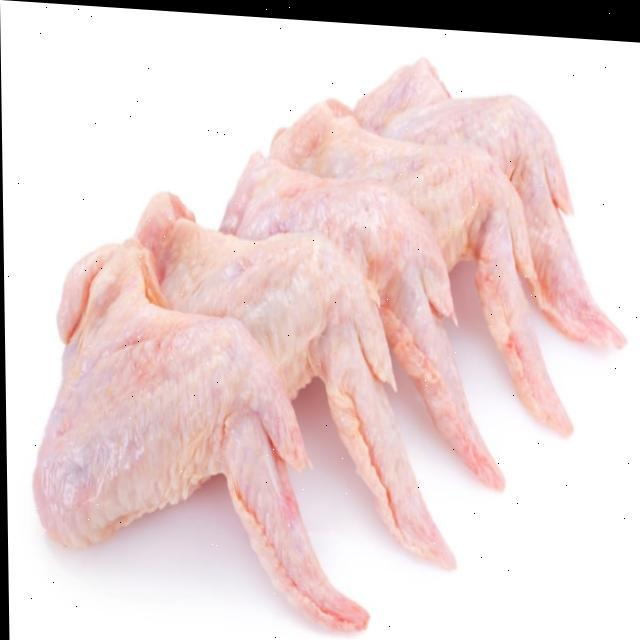wing: (39, 242, 354, 628), (140, 176, 440, 558), (282, 84, 553, 412), (234, 139, 489, 474), (362, 42, 626, 356)
